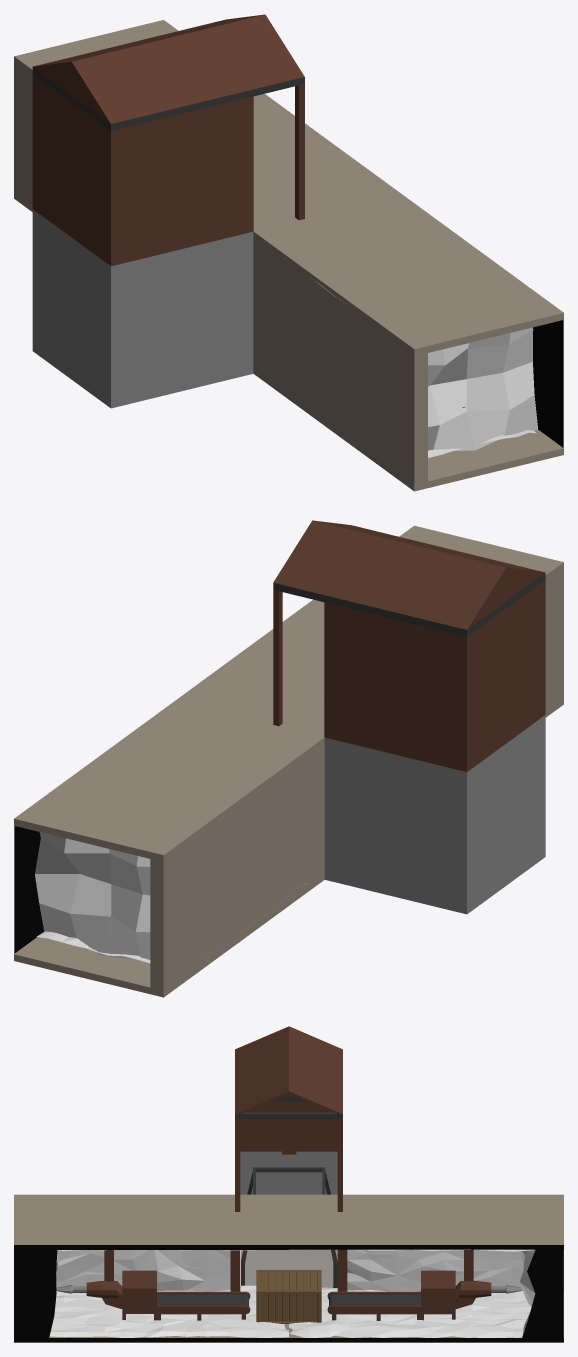
File: mine_stufe1_ver1.0.fbx
3 renders of one model, top to bottom at view 1: azimuth 30°, elevation 25°; view 2: azimuth 150°, elevation 25°; view 3: azimuth 270°, elevation 25°, orthographic. The views are drawn at different scales.
Visible parts, largest first — view 1: minenschacht_links, fahrstuhlhaus_stufe1, fahrstuhlschacht, rohstoffwand_links, minenschacht_rechts, abdeckung_rohstoffwand_links; view 2: minenschacht_rechts, fahrstuhlhaus_stufe1, fahrstuhlschacht, rohstoffwand_rechts, minenschacht_links, abdeckung_rohstoffwand_rechts; view 3: minenschacht_links, minenschacht_rechts, fahrstuhlhaus_stufe1, rohstoffboden_stufe1_rechts, rohstoffboden_stufe1_links, deko_stufe1_rechts(rohstoffwand), deko_stufe1_links(rohstoffwand), fahrstuhlschacht, abdeckung_rohstoffwand_links, kiste_stufe1, fahrstuhl_stufe1, abdeckung_rohstoffwand_rechts (+9 smaller).
Boxes of the visible parts, box(x1,y1,x2,y2) form: minenschacht_links: box(253, 166, 563, 491); fahrstuhlhaus_stufe1: box(32, 14, 304, 266); fahrstuhlschacht: box(32, 209, 253, 408); rohstoffwand_links: box(428, 327, 537, 450); minenschacht_rechts: box(14, 20, 363, 211); abdeckung_rohstoffwand_links: box(533, 320, 563, 447); minenschacht_rechts: box(14, 672, 324, 997); fahrstuhlhaus_stufe1: box(273, 520, 545, 771); fahrstuhlschacht: box(324, 715, 545, 914); rohstoffwand_rechts: box(35, 832, 150, 959); minenschacht_links: box(214, 525, 563, 717); abdeckung_rohstoffwand_rechts: box(14, 826, 44, 953); minenschacht_links: box(14, 1194, 288, 1342); minenschacht_rechts: box(289, 1194, 563, 1342); fahrstuhlhaus_stufe1: box(235, 1026, 342, 1211); rohstoffboden_stufe1_rechts: box(289, 1287, 531, 1337); rohstoffboden_stufe1_links: box(49, 1285, 288, 1337); deko_stufe1_rechts(rohstoffwand): box(347, 1249, 523, 1291); deko_stufe1_links(rohstoffwand): box(56, 1250, 230, 1291); fahrstuhlschacht: box(240, 1151, 337, 1194); abdeckung_rohstoffwand_links: box(14, 1250, 57, 1337); kiste_stufe1: box(256, 1270, 321, 1323); fahrstuhl_stufe1: box(241, 1167, 337, 1287); abdeckung_rohstoffwand_rechts: box(522, 1249, 563, 1337).
Size of the model in its own units: 430 by 447 by 1020.
